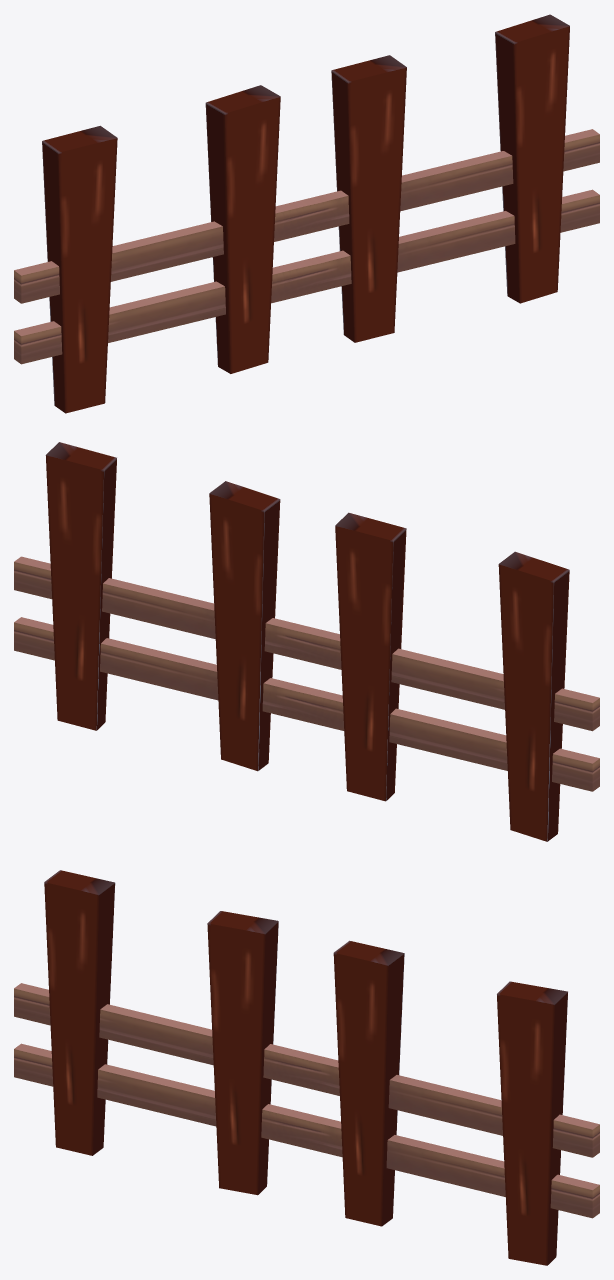
Rendered from fence.gltf.
The picture shows the model from 3 angles, top to bottom: view 1: azimuth 30°, elevation 25°; view 2: azimuth 150°, elevation 25°; view 3: azimuth 330°, elevation 25°; orthographic projection.
Parts seen in each view (by area): view 1: FenceMesh; view 2: FenceMesh; view 3: FenceMesh.
Boxes of the visible parts, x1,y1,x2,y2 form: FenceMesh: [14, 14, 599, 413]; FenceMesh: [14, 442, 599, 841]; FenceMesh: [14, 870, 599, 1265].
Size of what is drawn, in the model's own units: 2 by 0.883 by 0.1103.
1 material, 1 textured.
